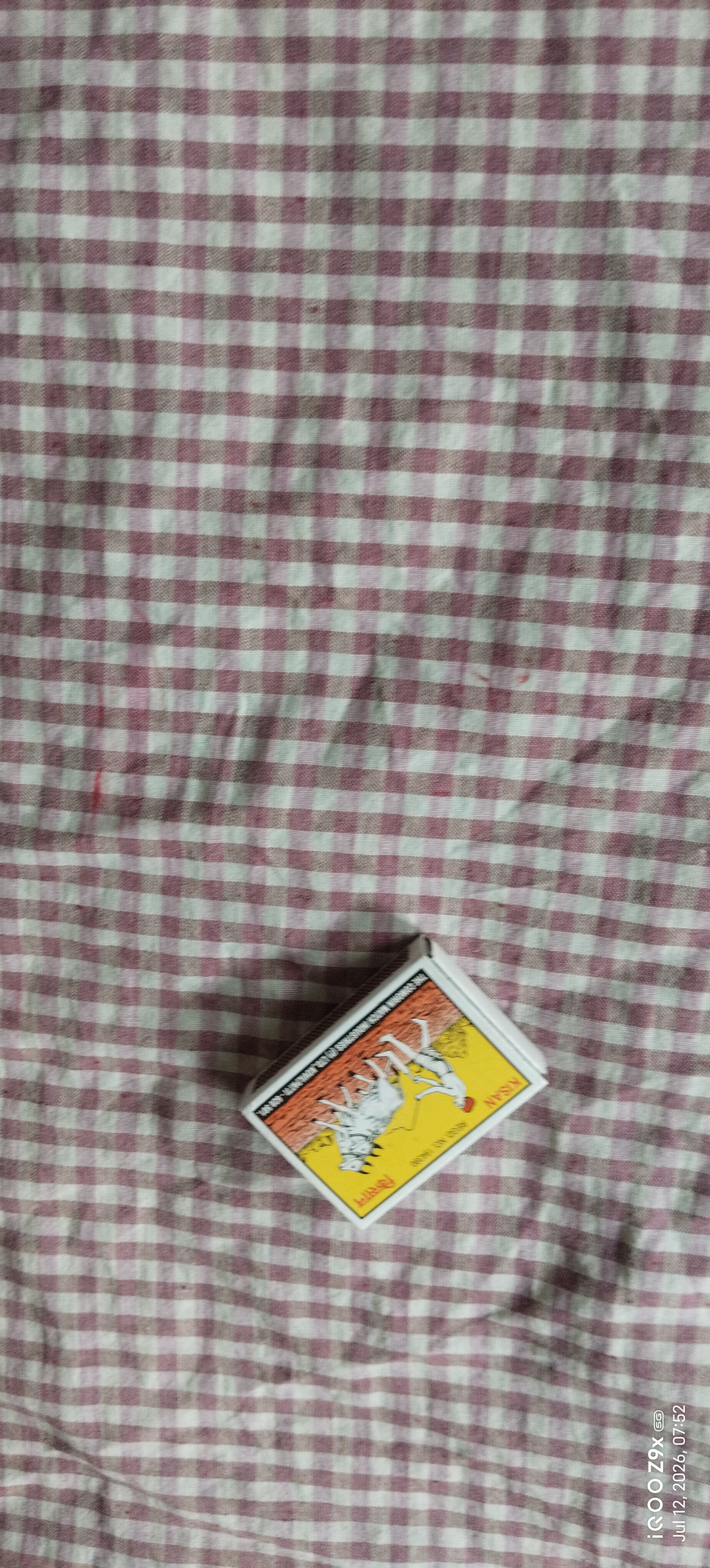matchbox: (206, 898, 577, 1284)
